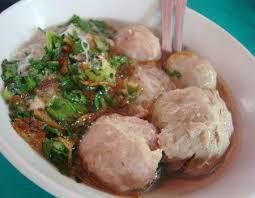bakso: (77, 17, 233, 198)
